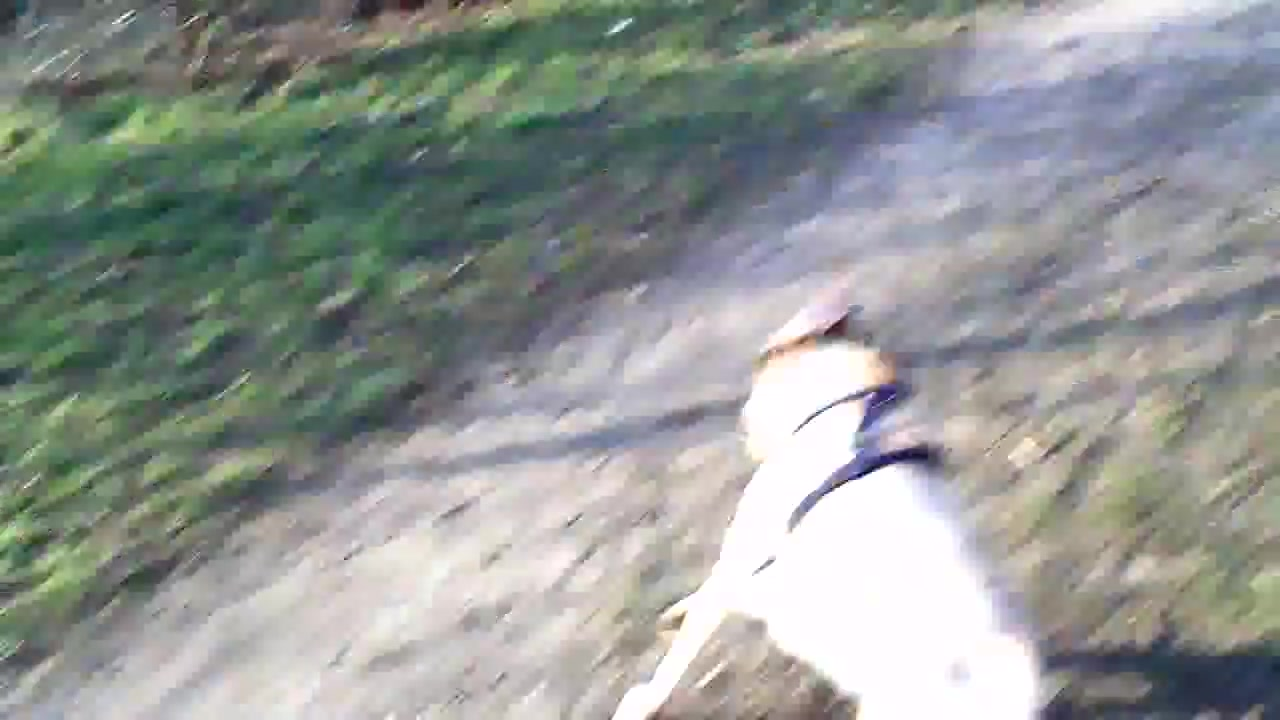dog: (608, 290, 1047, 720)
